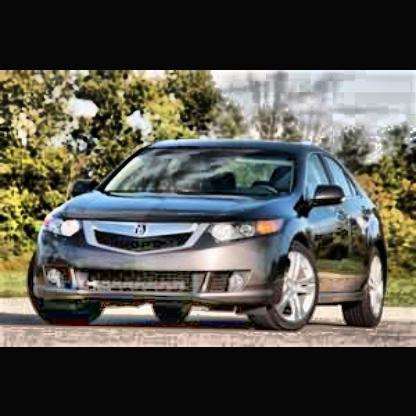Acura TSX Sedan 2012: (27, 138, 393, 334)
